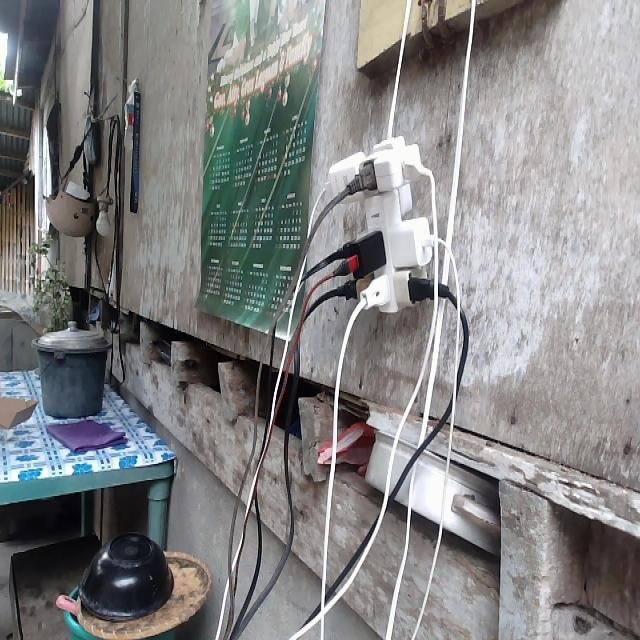-: (323, 132, 450, 313)
